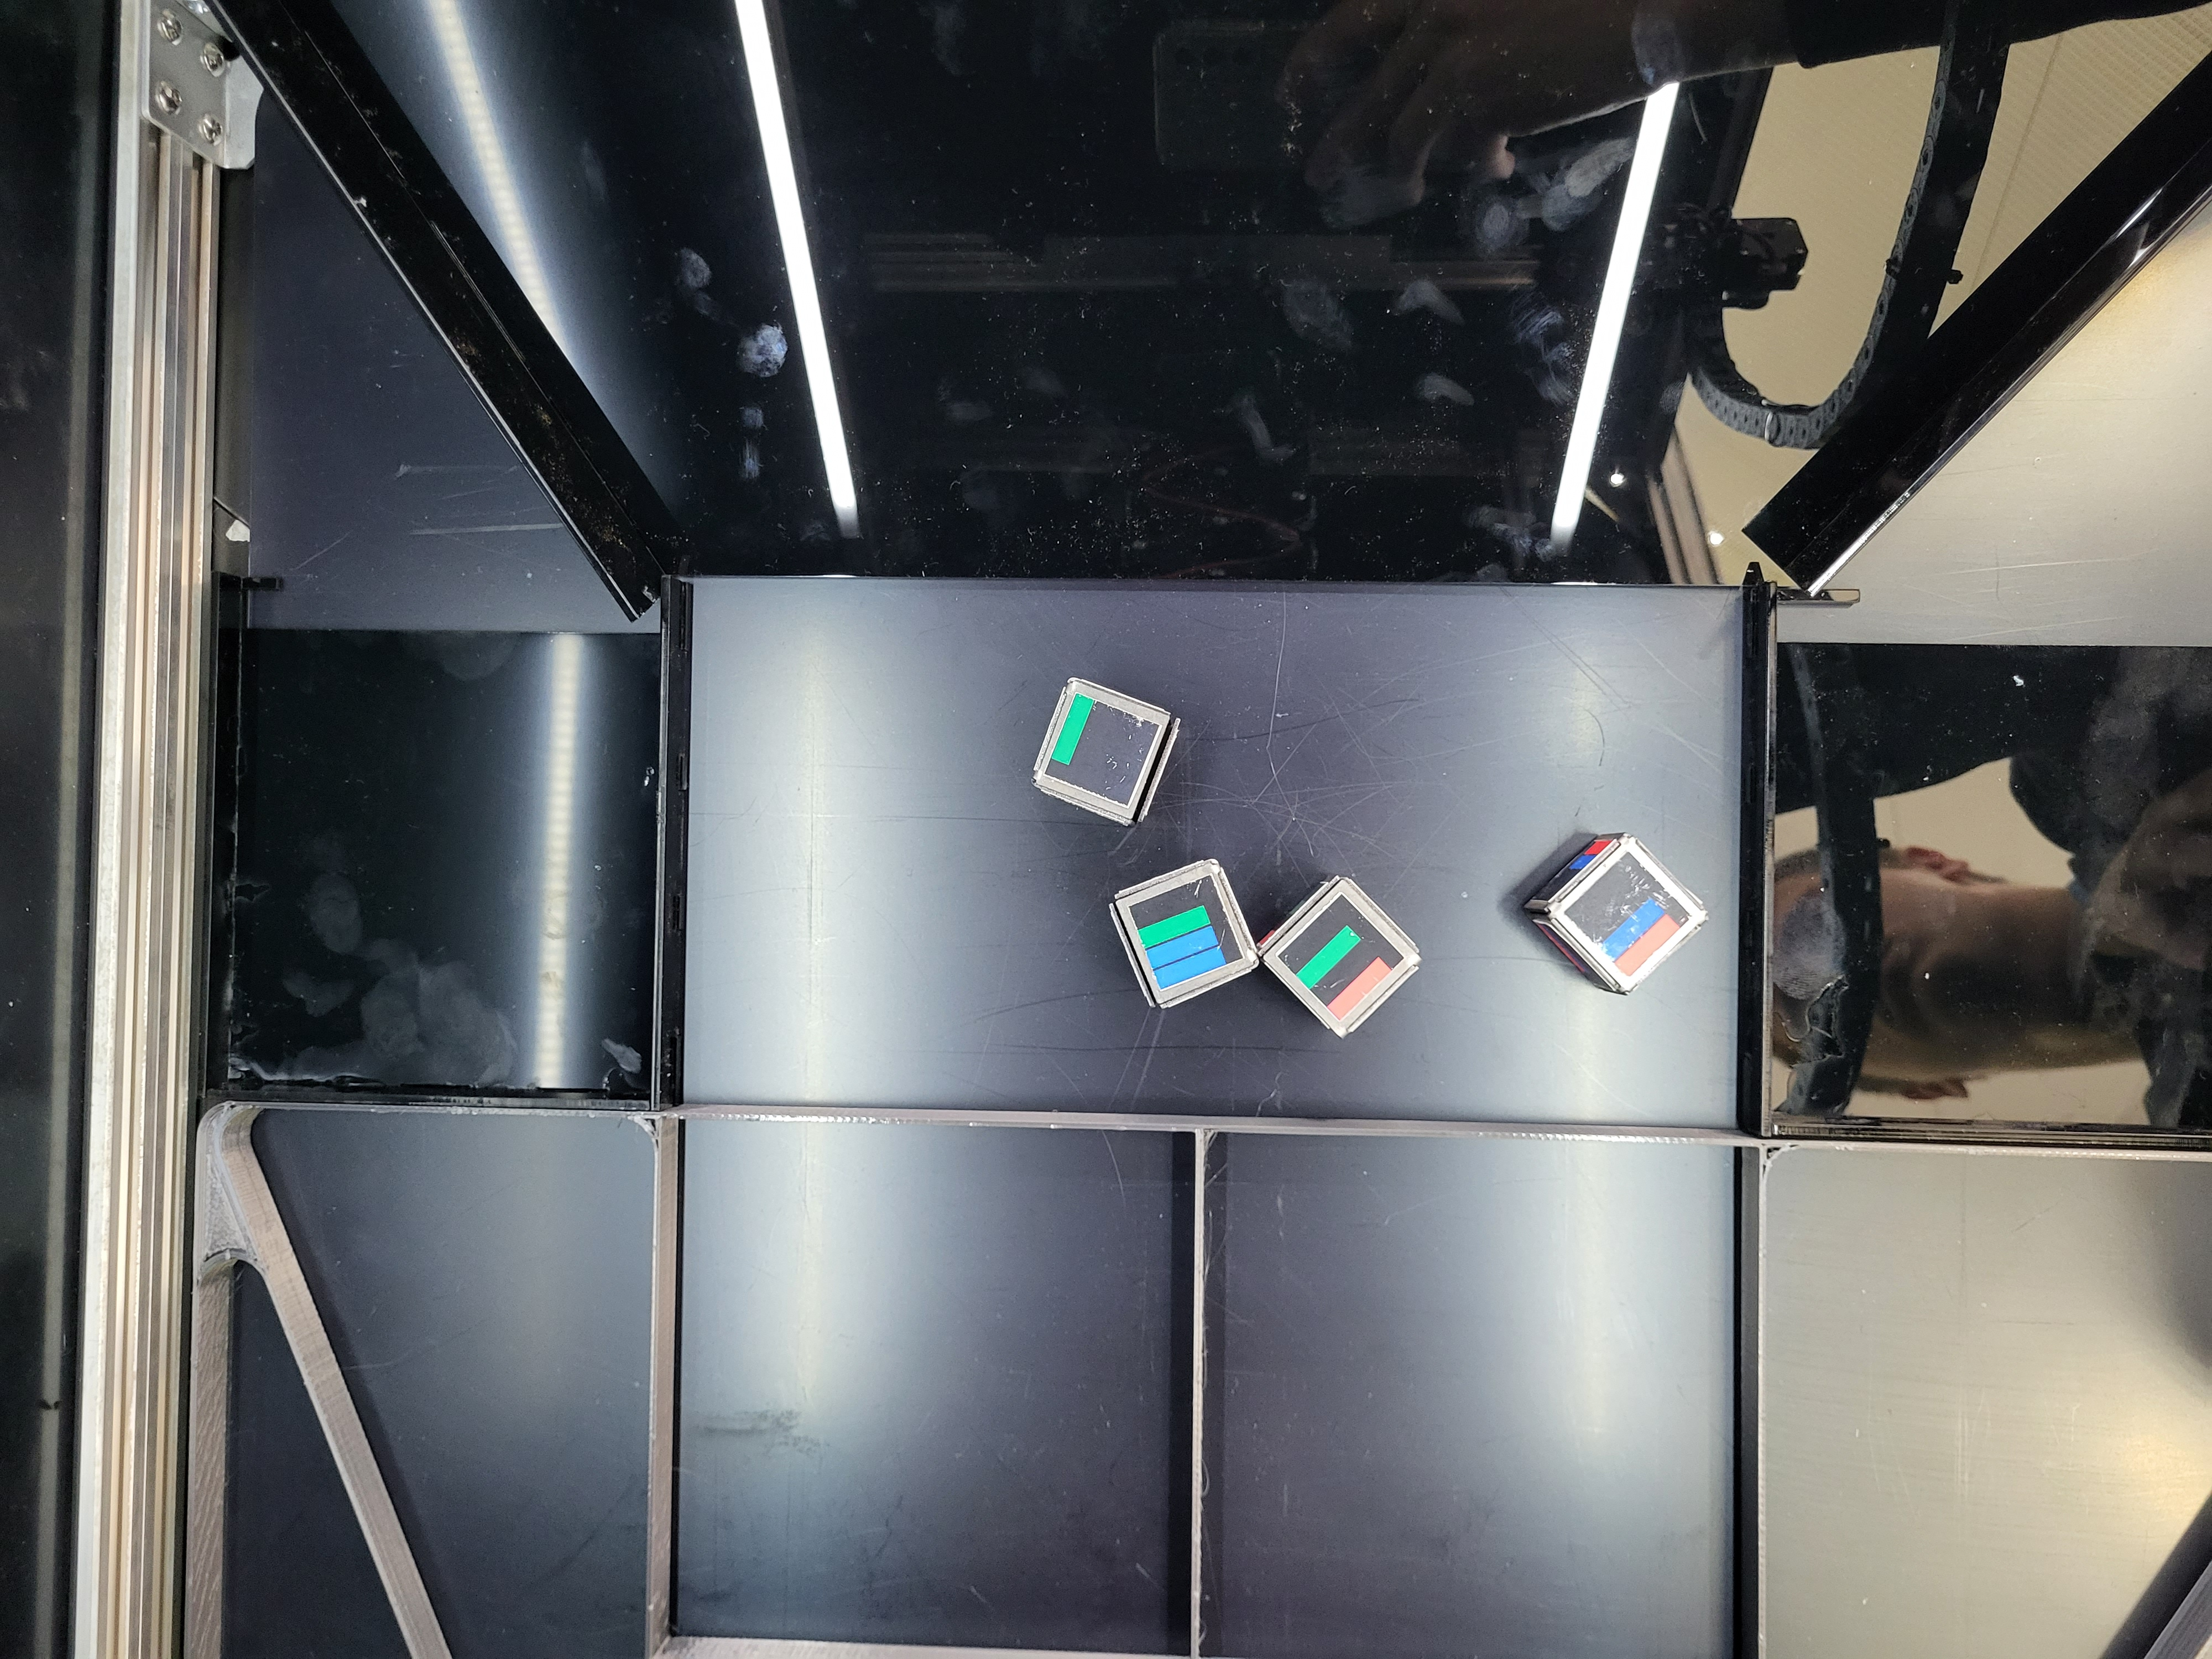Cube: (1258, 866, 1432, 1051), (1543, 819, 1707, 1011), (1026, 669, 1190, 836), (1099, 857, 1263, 1011)
